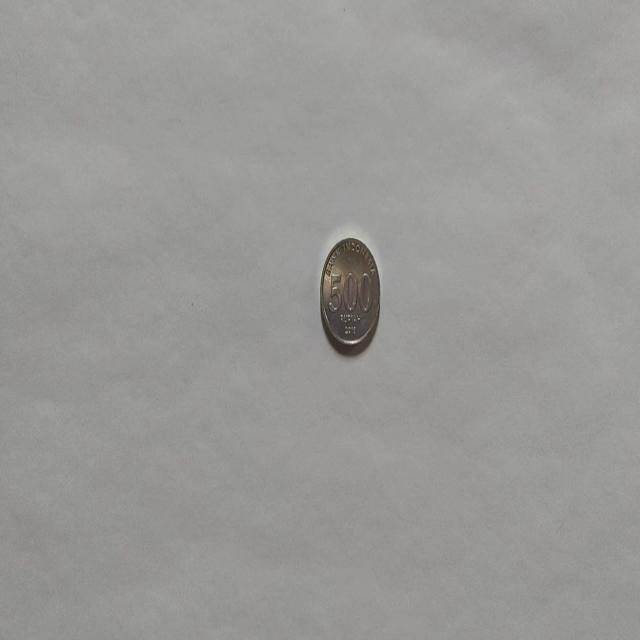lima ratus rupiah: (319, 235, 381, 352)
